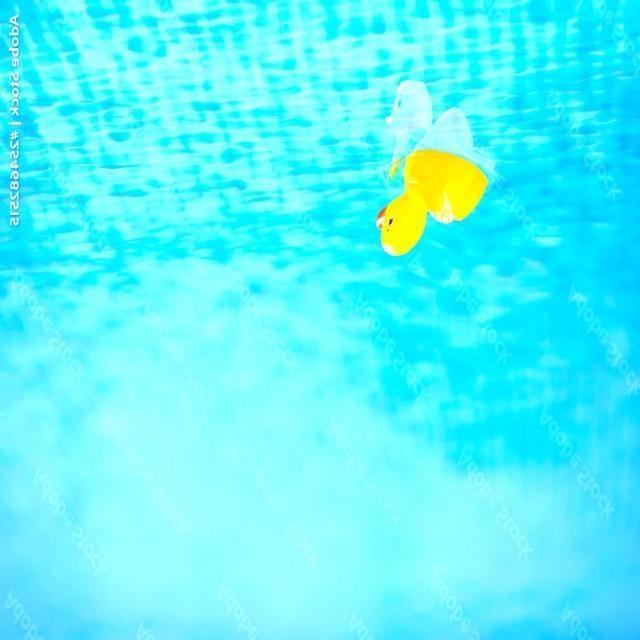rubber-duck: (377, 148, 486, 254)
